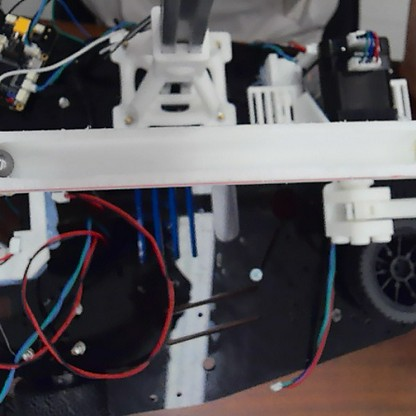ironball: (0, 143, 20, 178)
